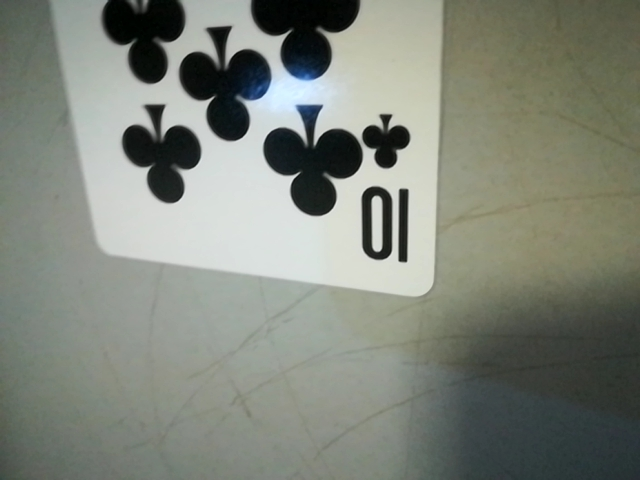mh 10: (354, 106, 426, 282)
